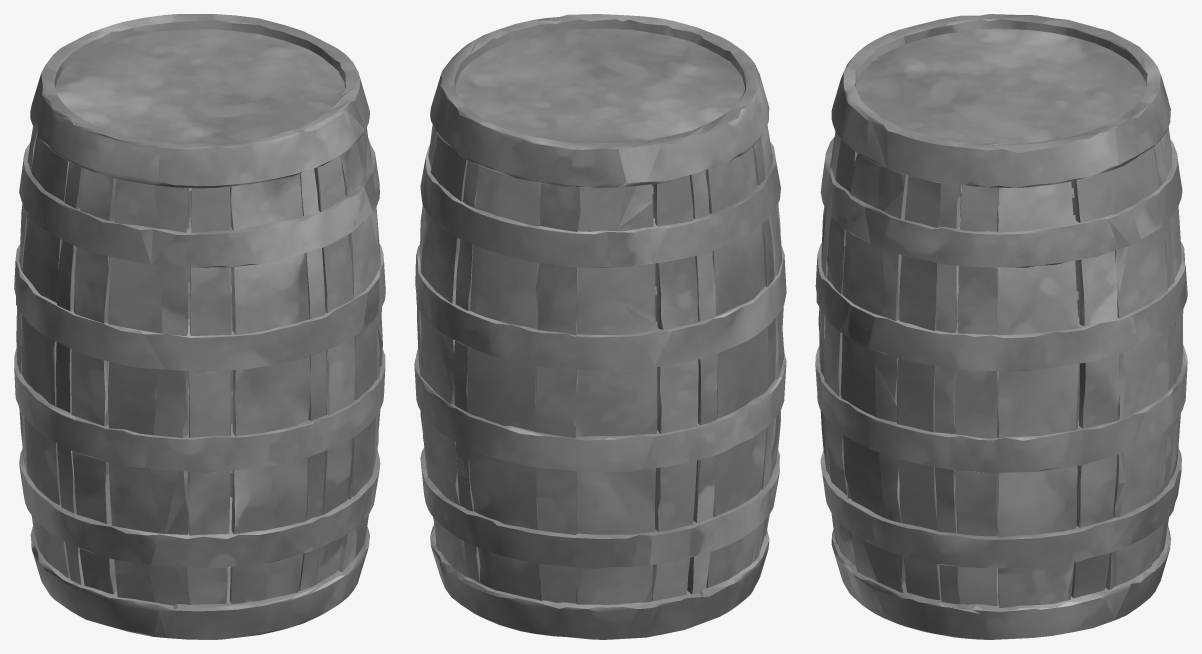
Rendered from SM_Barrel_01a.fbx.
3 renders of one model, left to right at view 1: azimuth 30°, elevation 25°; view 2: azimuth 150°, elevation 25°; view 3: azimuth 270°, elevation 25°, orthographic.
Parts seen in each view (by area): view 1: SM_Barrel_01a_LOD0; view 2: SM_Barrel_01a_LOD0; view 3: SM_Barrel_01a_LOD0.
Boxes of the visible parts, left/top/right/bottom form: SM_Barrel_01a_LOD0: left=14, top=14, right=385, bottom=639; SM_Barrel_01a_LOD0: left=414, top=14, right=786, bottom=639; SM_Barrel_01a_LOD0: left=815, top=14, right=1187, bottom=639.
Size of the model in its own units: 76.6 by 76.62 by 112.
